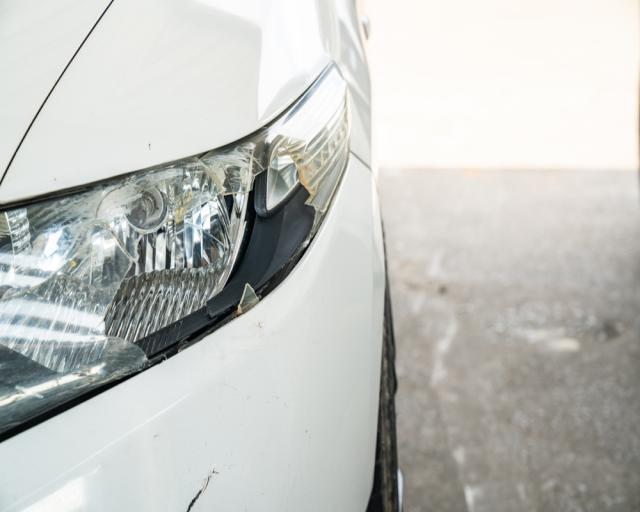lamp broken: (0, 62, 352, 441)
scratch: (186, 467, 218, 512)
